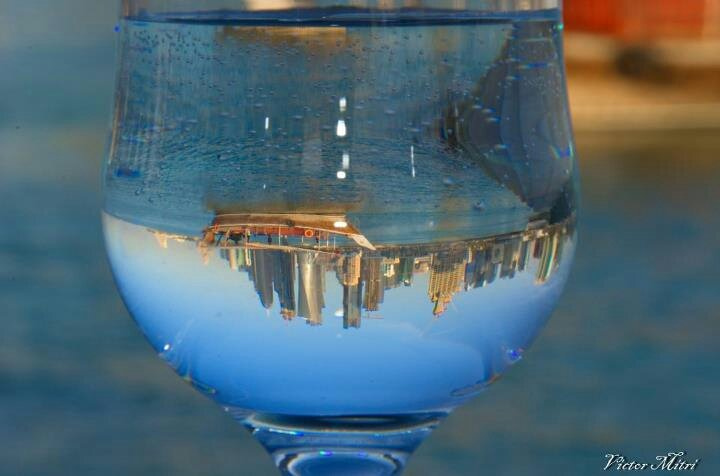glass of water: (113, 2, 582, 476)
